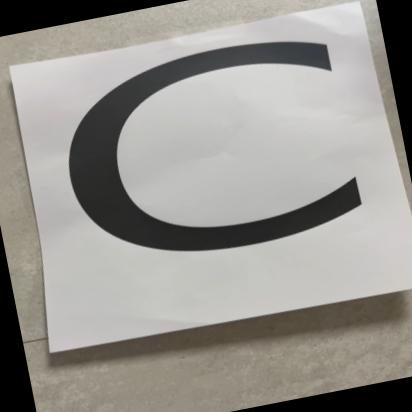seat: (11, 11, 406, 362)
